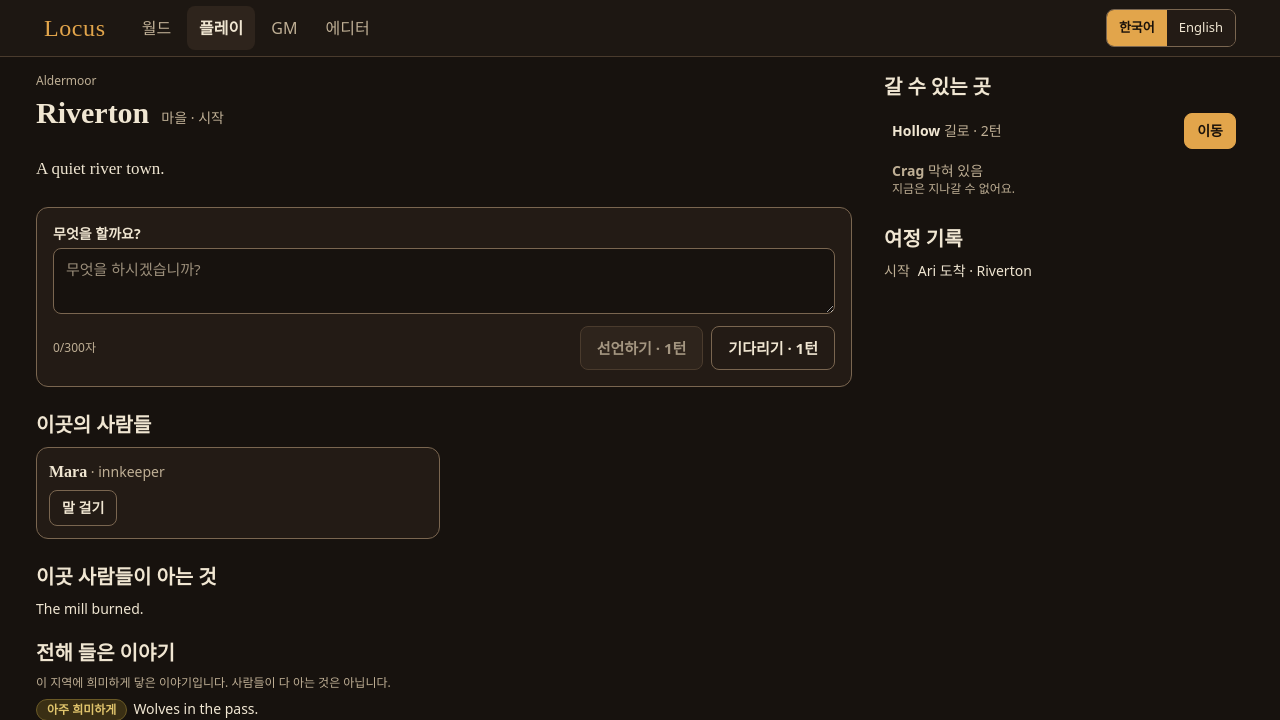
Scenario: PlayPage › 409 while a turn is in progress shows the in-progress toast, not an error
Click the button with test id "wait-btn" at point(773, 348), box top-left (711, 326), bottom-right (835, 370)
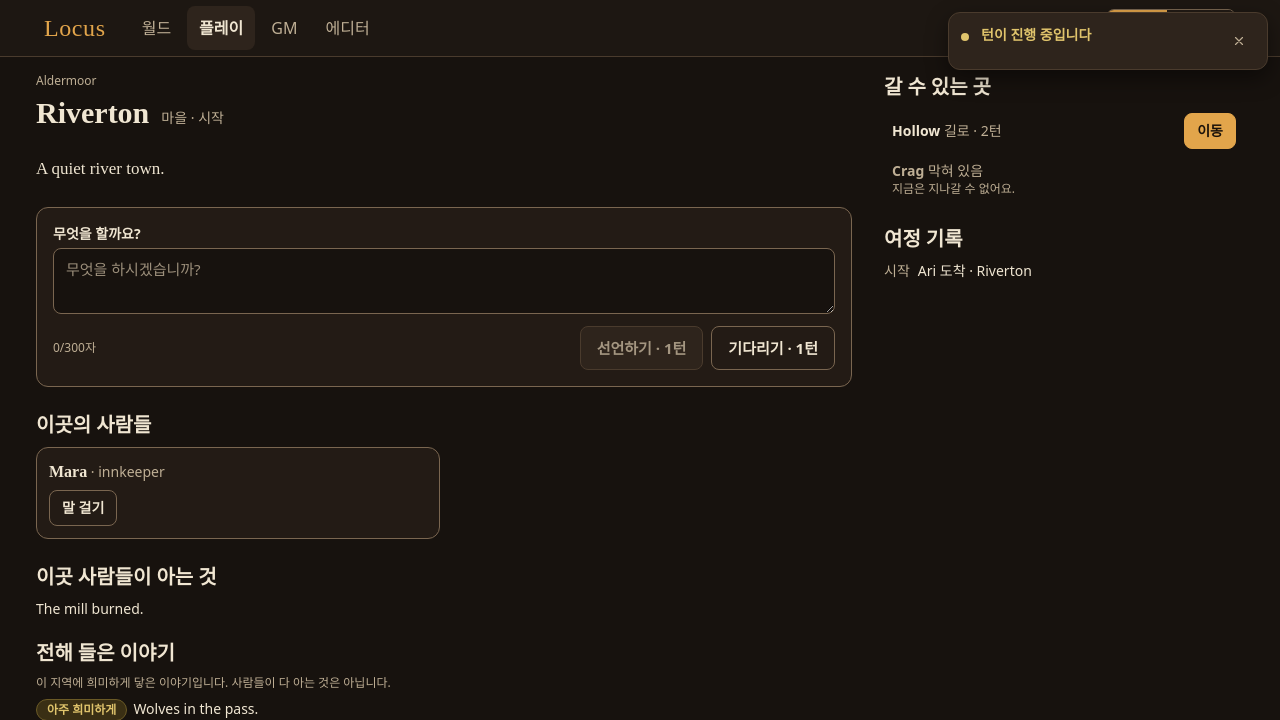
Expected: the element with test id "notification-center" reads "턴이 진행 중입니다", top-left (981, 25), bottom-right (1091, 44)
